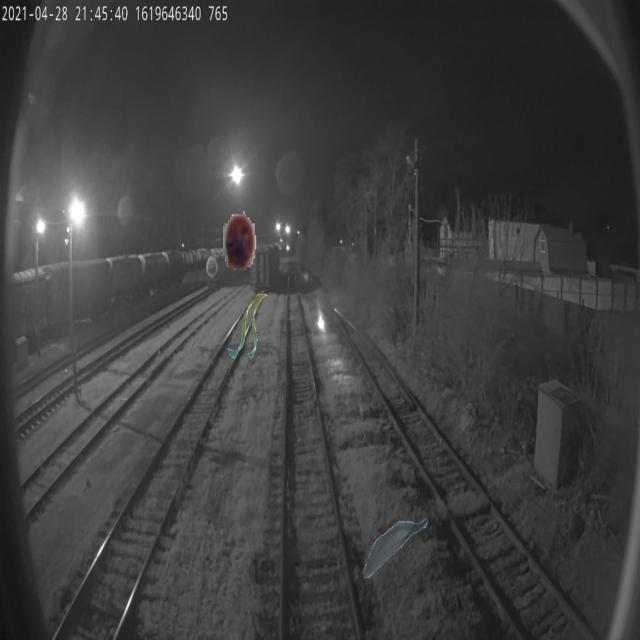floating object: (361, 516, 428, 580), (227, 294, 269, 358), (223, 206, 256, 270)
